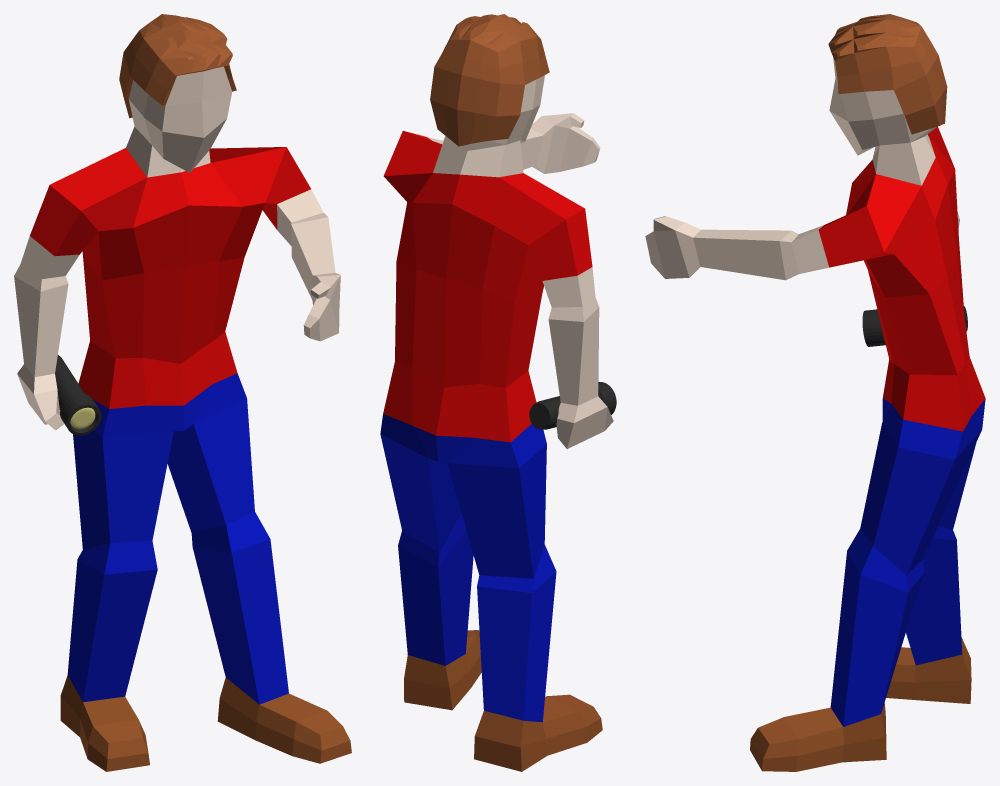
Rendered from Human_grabbing_36.fbx.
The picture shows the model from 3 angles, left to right: view 1: azimuth 30°, elevation 25°; view 2: azimuth 150°, elevation 25°; view 3: azimuth 270°, elevation 25°; orthographic projection.
Parts seen in each view (by area): view 1: Person.003, Cylinder.002; view 2: Person.003, Cylinder.002; view 3: Person.003, Cylinder.002.
Boxes of the visible parts, x1,y1,x2,y2 form: Person.003: (14,14,351,771); Cylinder.002: (55,355,101,435); Person.003: (380,14,613,771); Cylinder.002: (529,382,616,429); Person.003: (645,14,985,771); Cylinder.002: (862,306,967,346).
Bounding box in the file's own units: 0.5561 × 1.56 × 0.6892.
